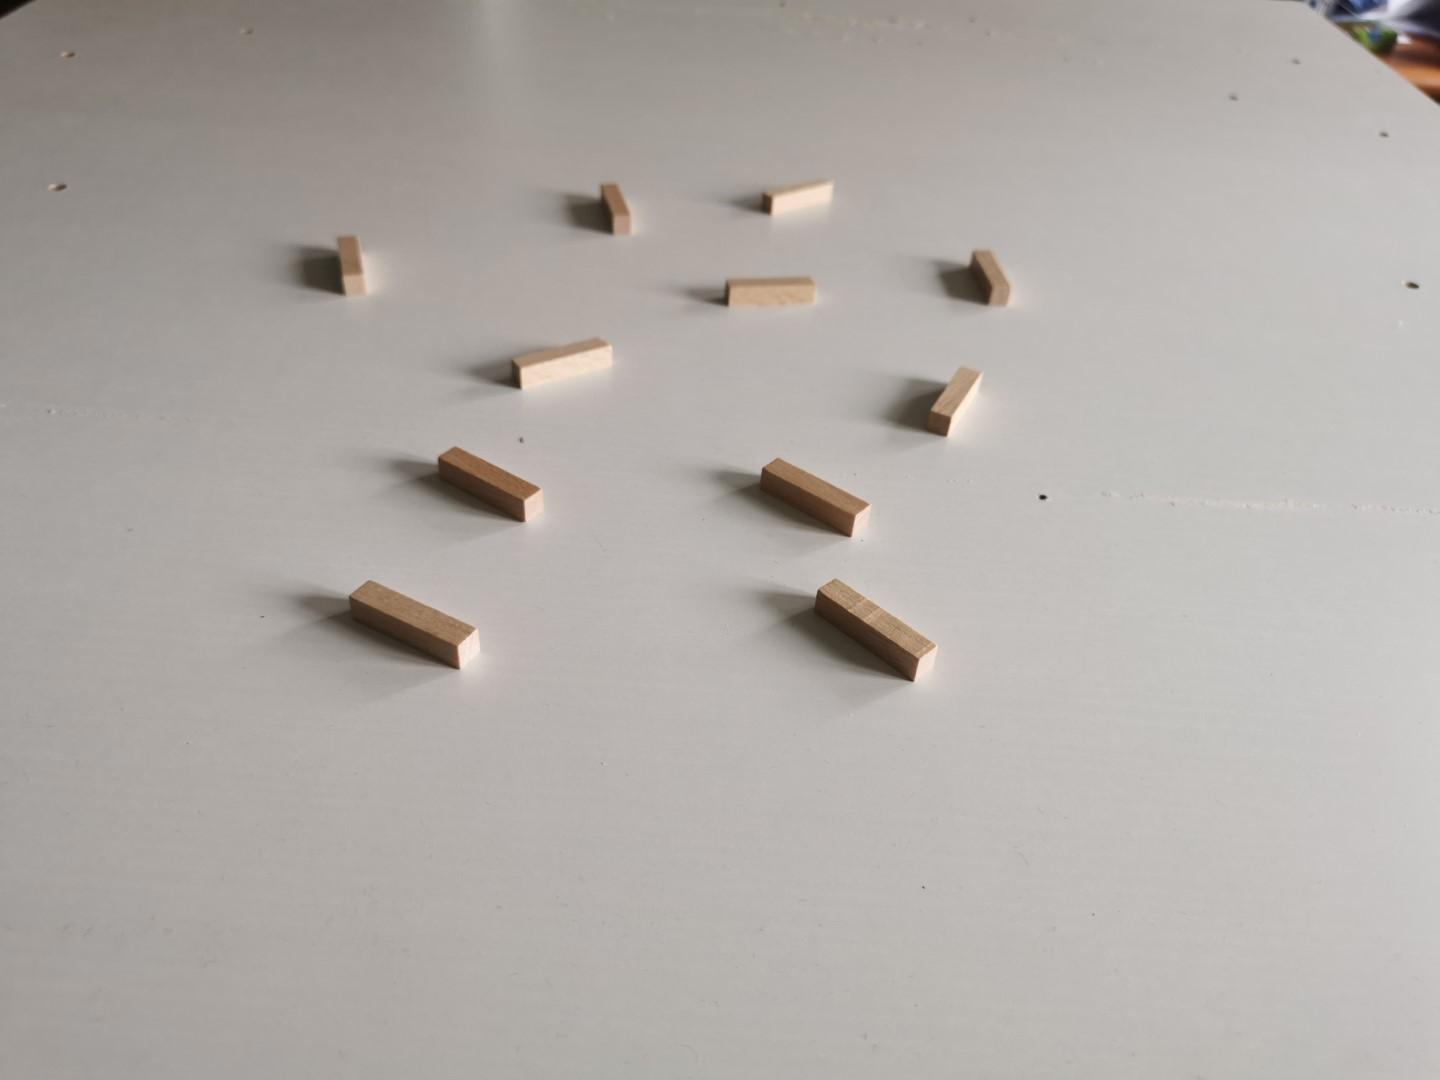jenga: (816, 580, 939, 682), (350, 581, 480, 668), (763, 458, 871, 535), (438, 446, 543, 521), (511, 336, 611, 388), (929, 368, 984, 434), (727, 275, 818, 305), (763, 178, 833, 213), (971, 248, 1013, 305), (336, 234, 367, 295), (601, 182, 632, 234)
